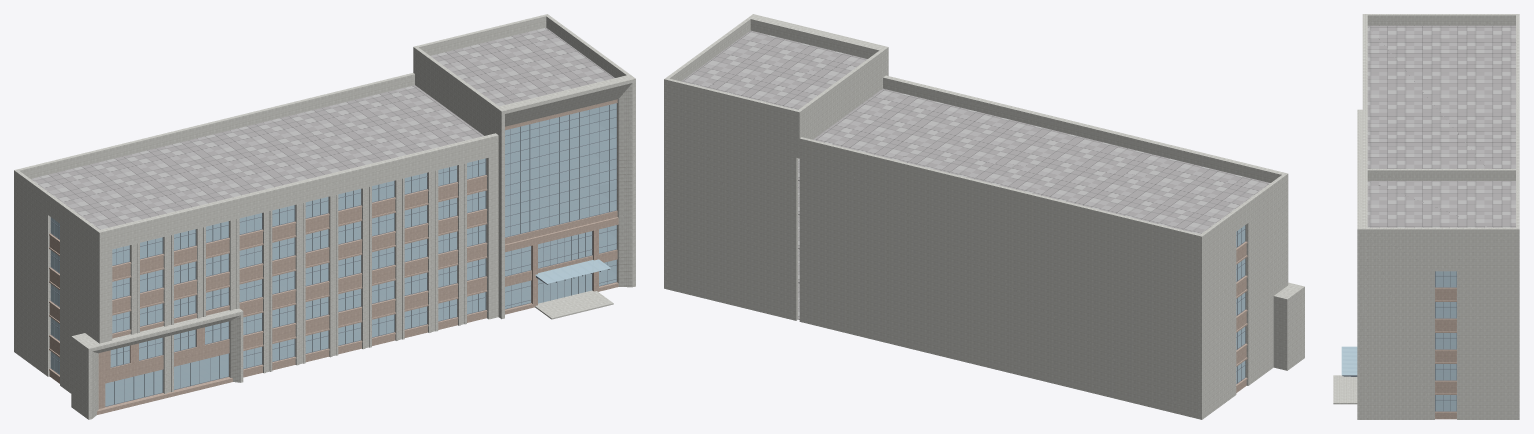
The picture shows the model from 3 angles, left to right: view 1: azimuth 30°, elevation 25°; view 2: azimuth 150°, elevation 25°; view 3: azimuth 270°, elevation 25°; orthographic projection. The views are drawn at different scales.
Visible parts, largest first — view 1: 办公楼15; view 2: 办公楼15; view 3: 办公楼15.
Boxes of the visible parts, box(x1,y1,x2,y2) form: 办公楼15: box(14, 14, 635, 419); 办公楼15: box(664, 14, 1304, 419); 办公楼15: box(1333, 14, 1519, 419).
Size of the model in its own units: 66.15 by 24 by 21.21.
5 materials, 3 textured.
